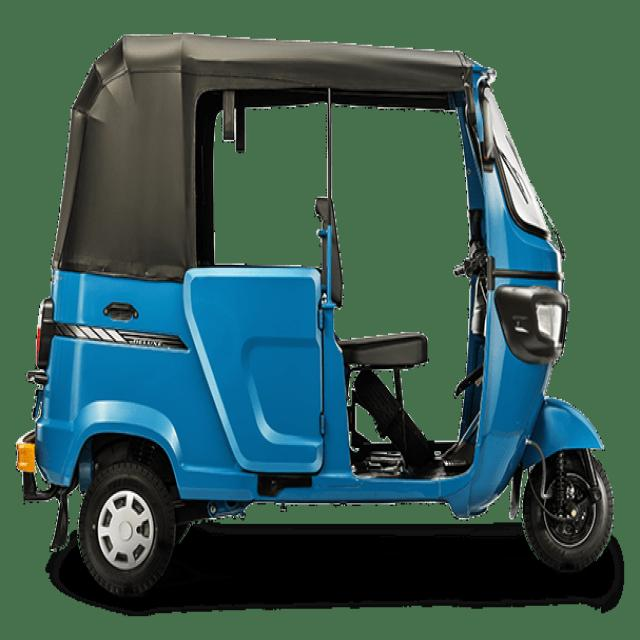bus: (16, 35, 614, 594)
